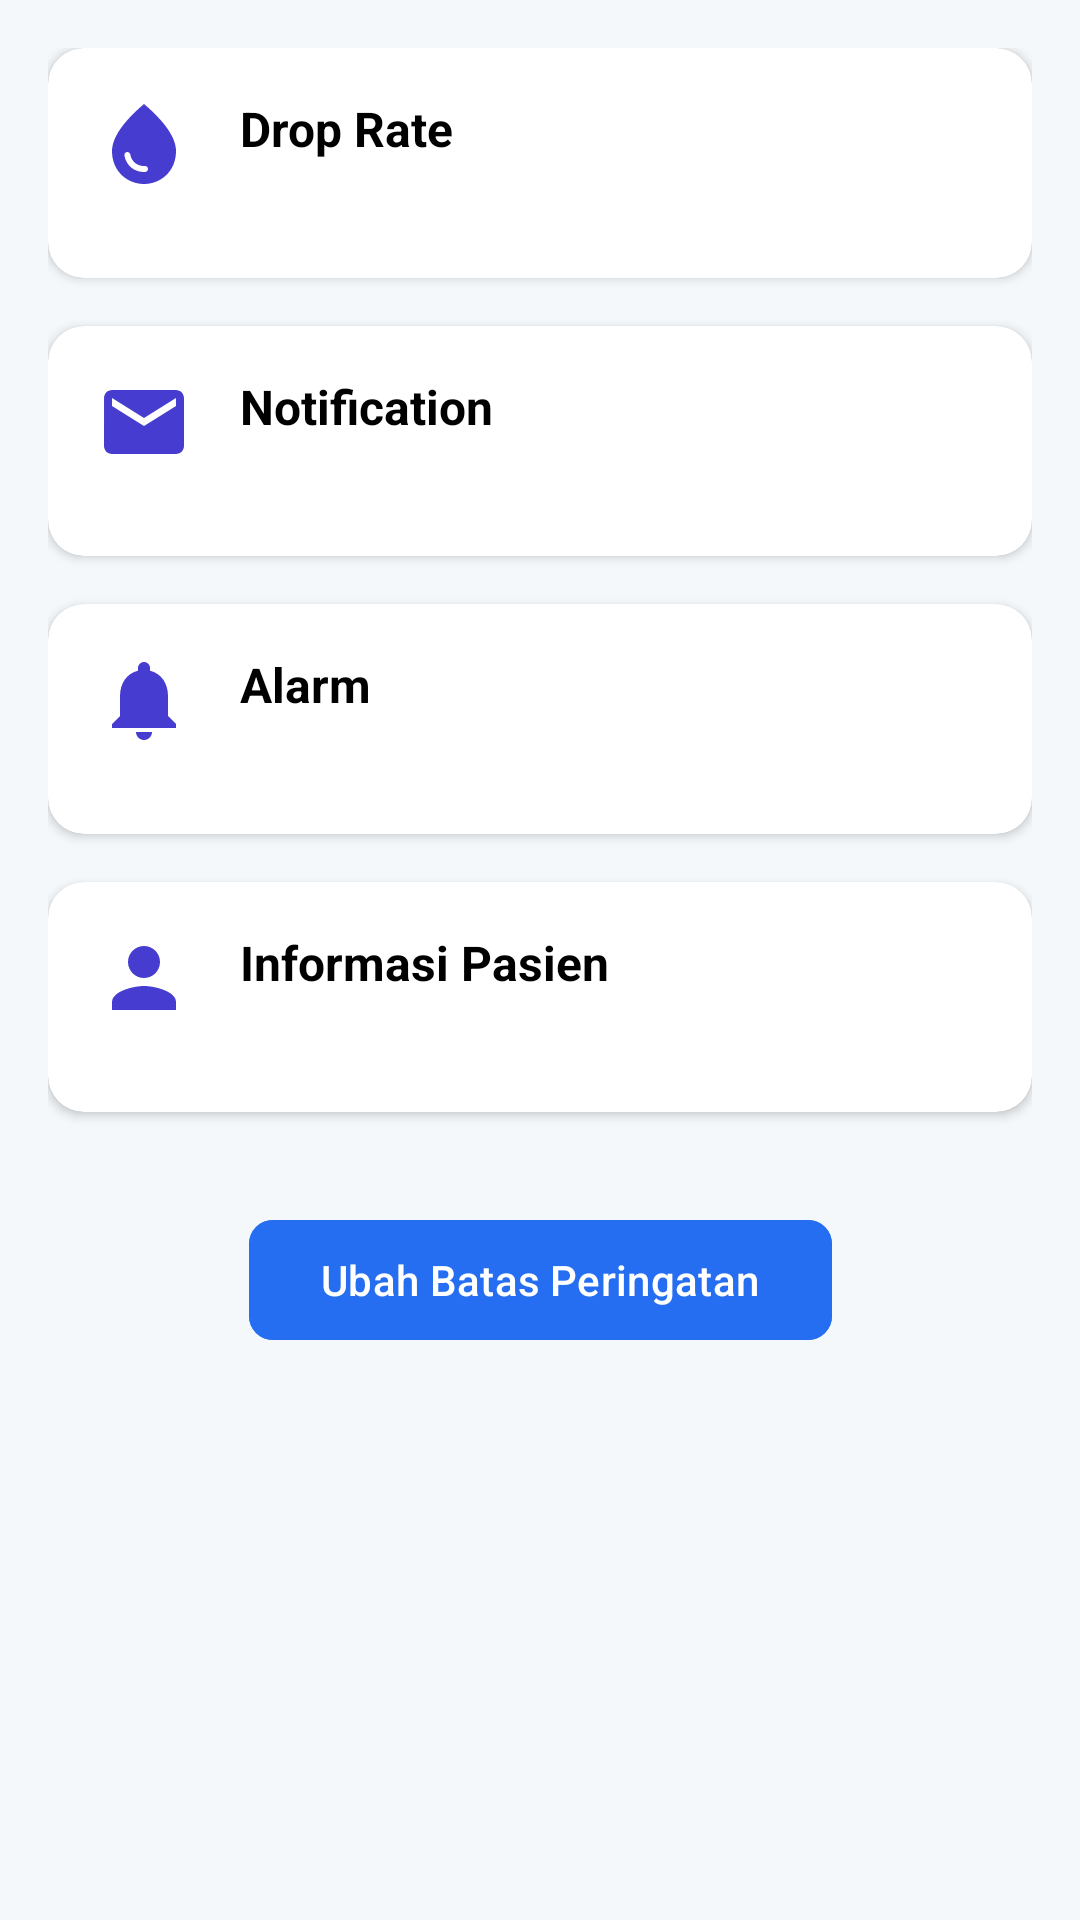

Where to tap for icons on this 1080 × 1920 app screen, as (x,y):
icon patient information: (144,978)
